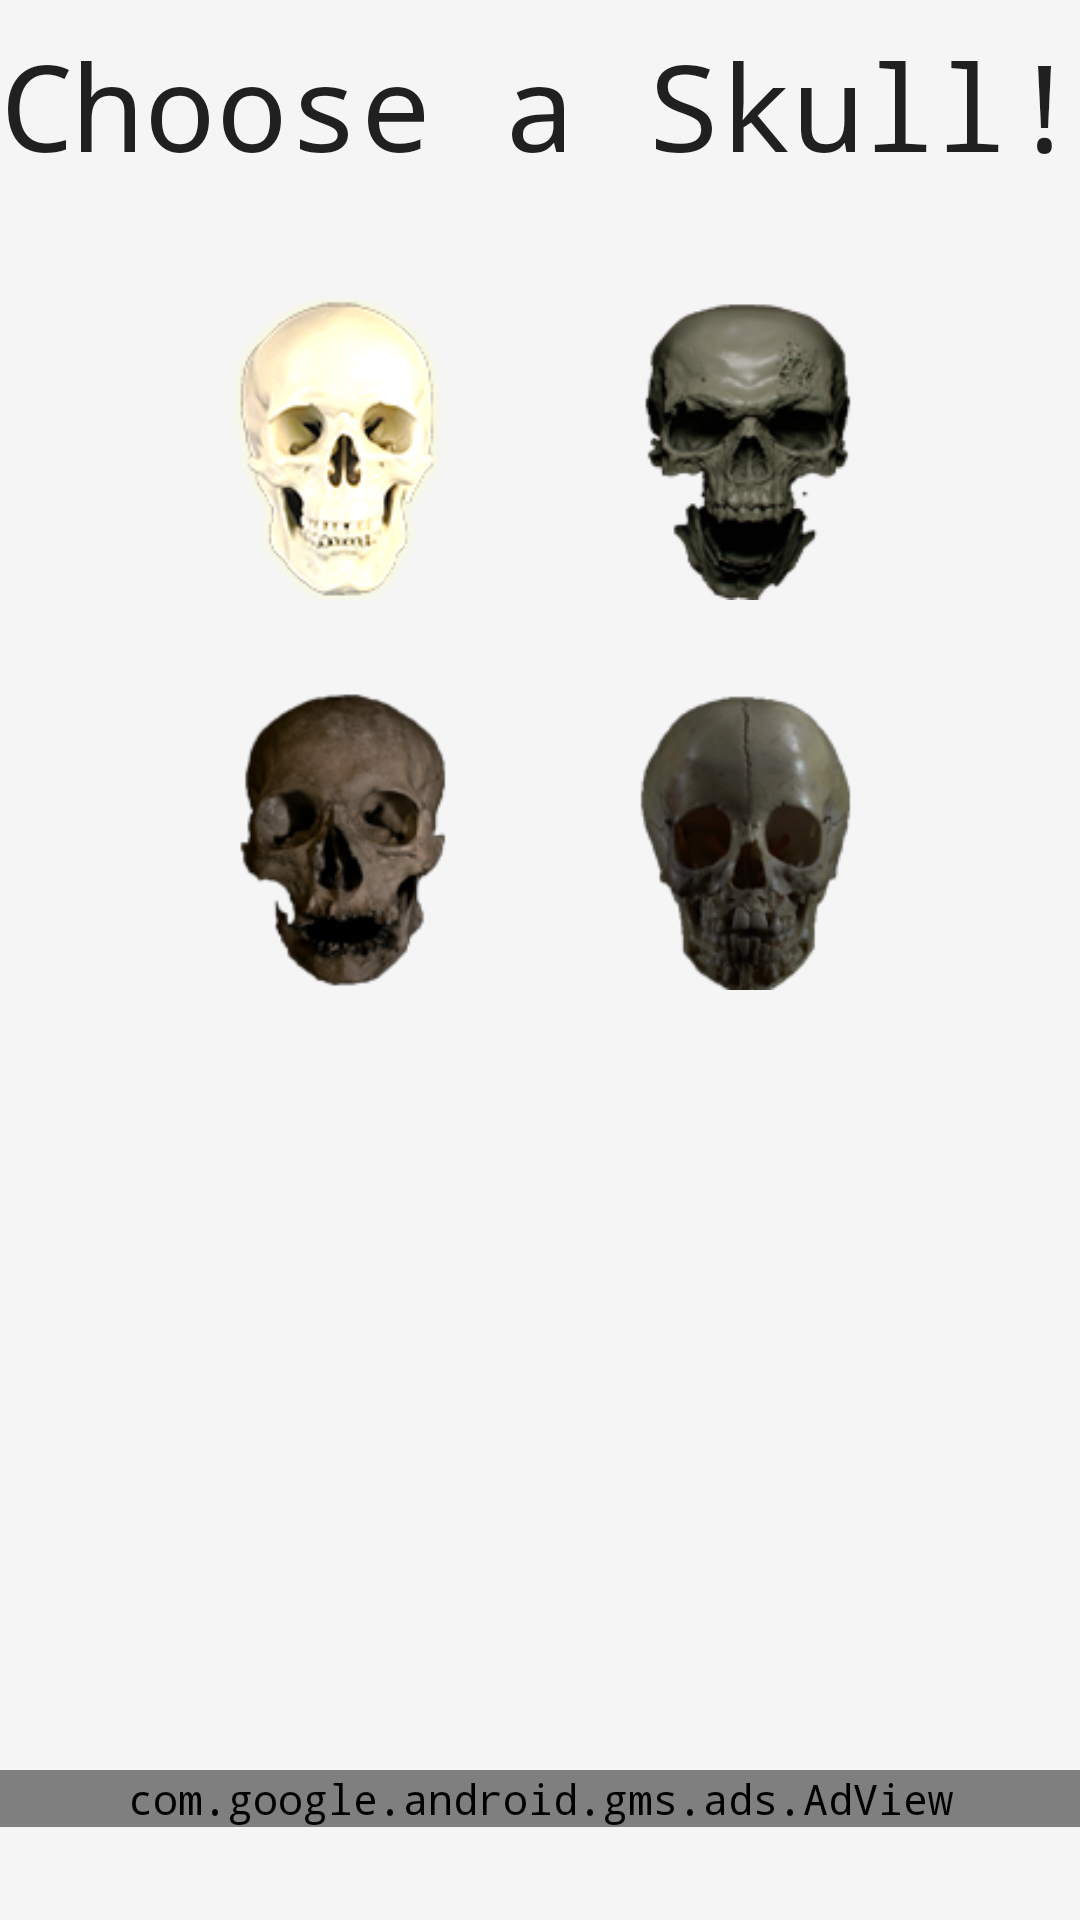

Named icons in this screenshot (1080x1920) and their bounding boxes, (x1, y1, x2, y2):
caveira: (235, 300, 439, 600), (645, 304, 851, 600), (240, 694, 446, 986), (640, 696, 851, 990)
